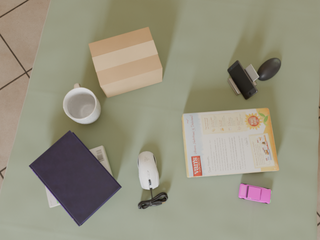book: (29, 130, 122, 226)
box: (182, 108, 279, 177), (89, 27, 162, 98)
cup: (63, 83, 101, 124)
mouse: (138, 151, 159, 189), (257, 58, 281, 81)
phone: (228, 60, 258, 99)
toy_car: (239, 183, 272, 204)
